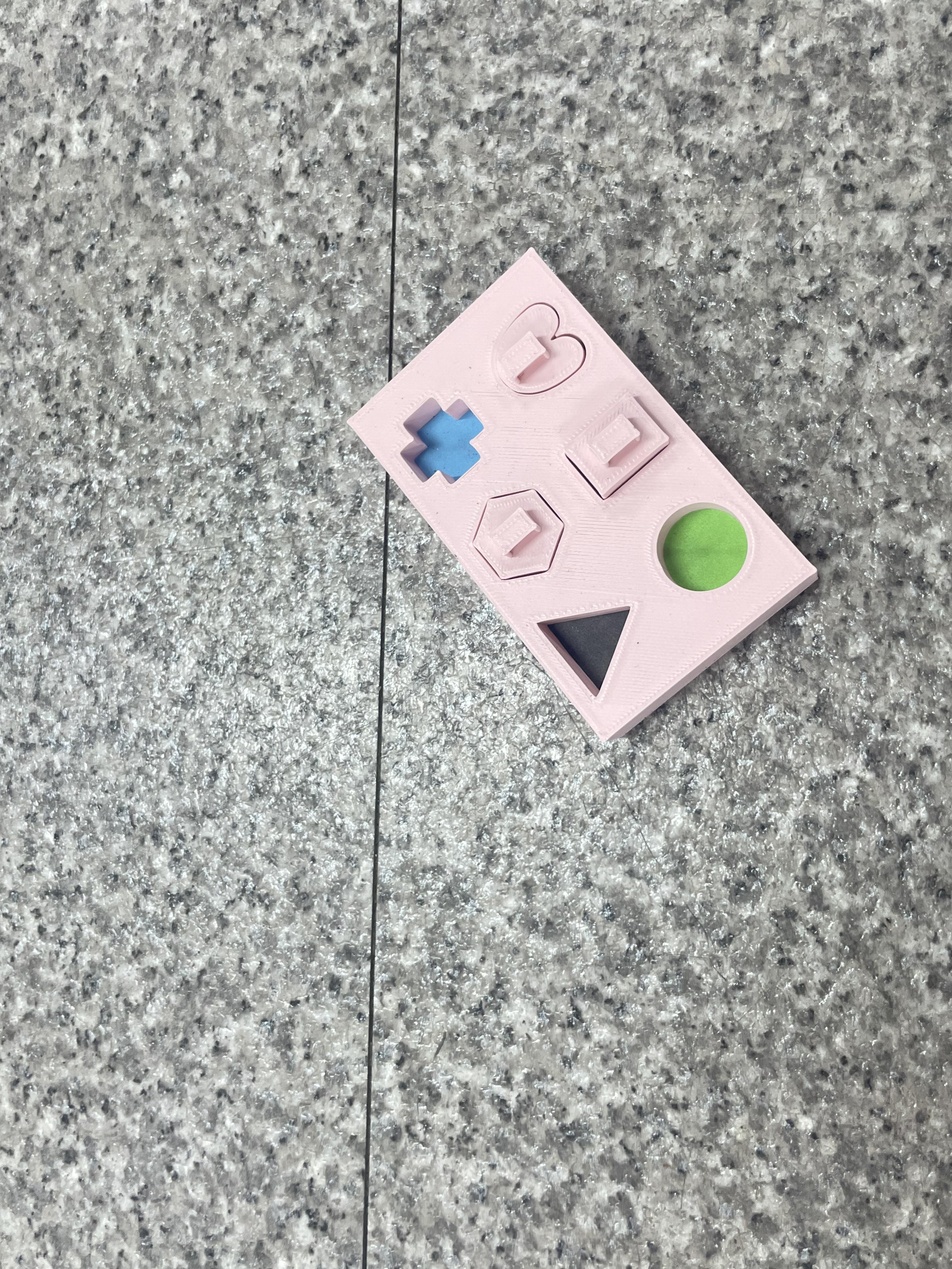unsolved: (346, 234, 830, 749)
